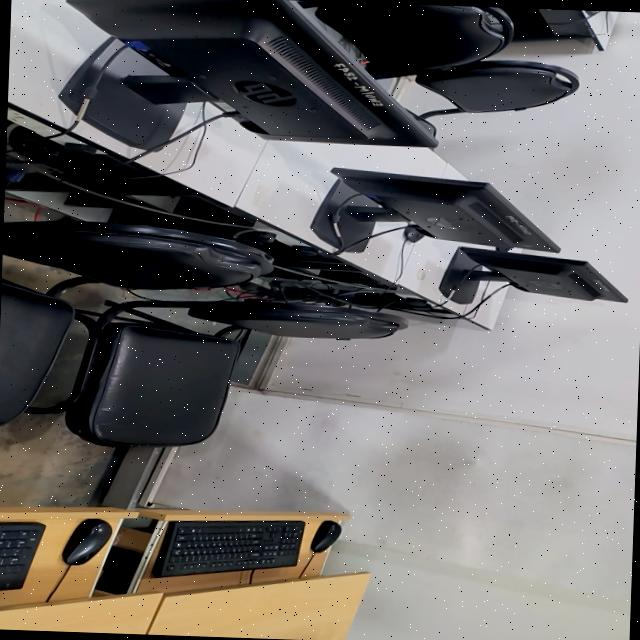Chair: (24, 299, 404, 446), (2, 218, 272, 288), (301, 0, 513, 74), (0, 278, 74, 423), (415, 59, 579, 119)
Keyboard: (153, 519, 304, 576), (0, 521, 45, 590)
Monitor: (59, 0, 437, 149), (311, 166, 560, 251), (439, 246, 626, 301)
Mouse: (62, 517, 111, 564), (311, 519, 341, 552)
